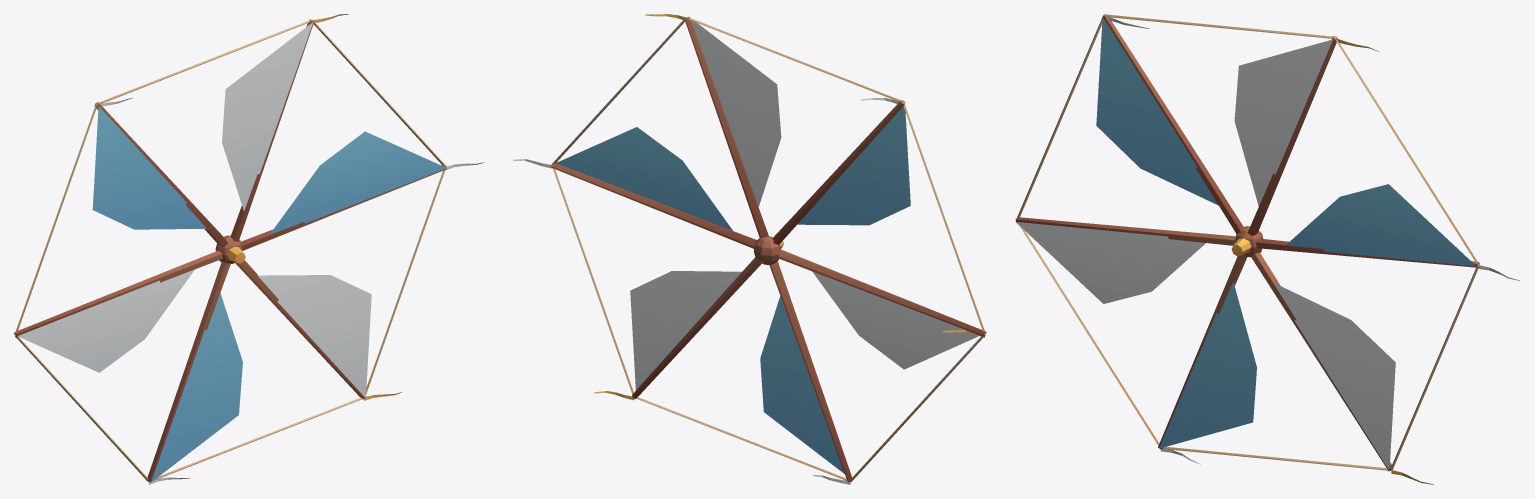
File: sail_tower_rotor.glb
3 renders of one model, left to right at view 1: azimuth 30°, elevation 25°; view 2: azimuth 150°, elevation 25°; view 3: azimuth 330°, elevation 25°, orthographic. The views are drawn at different scales.
Visible parts, largest first — view 1: sail_tower_rotor; view 2: sail_tower_rotor; view 3: sail_tower_rotor.
Boxes of the visible parts, x1,y1,x2,y2 form: sail_tower_rotor: (14, 14, 484, 484); sail_tower_rotor: (513, 14, 986, 484); sail_tower_rotor: (1015, 14, 1519, 484).
Bounding box in the file's own units: 10.83 × 9.42 × 0.7.
Materials: 1 (1 with a texture image).
